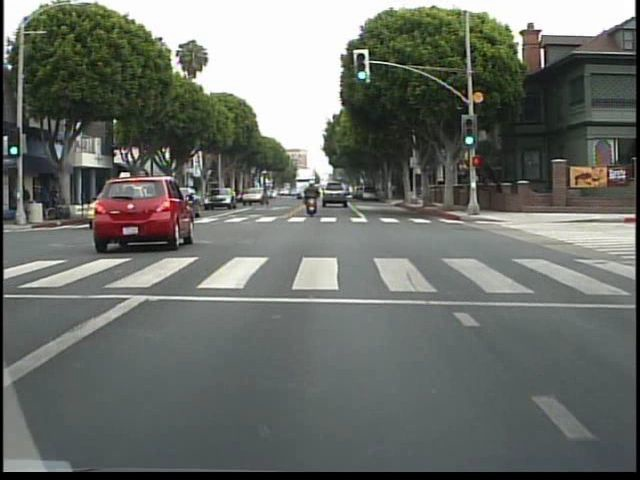person: (303, 178, 324, 222)
